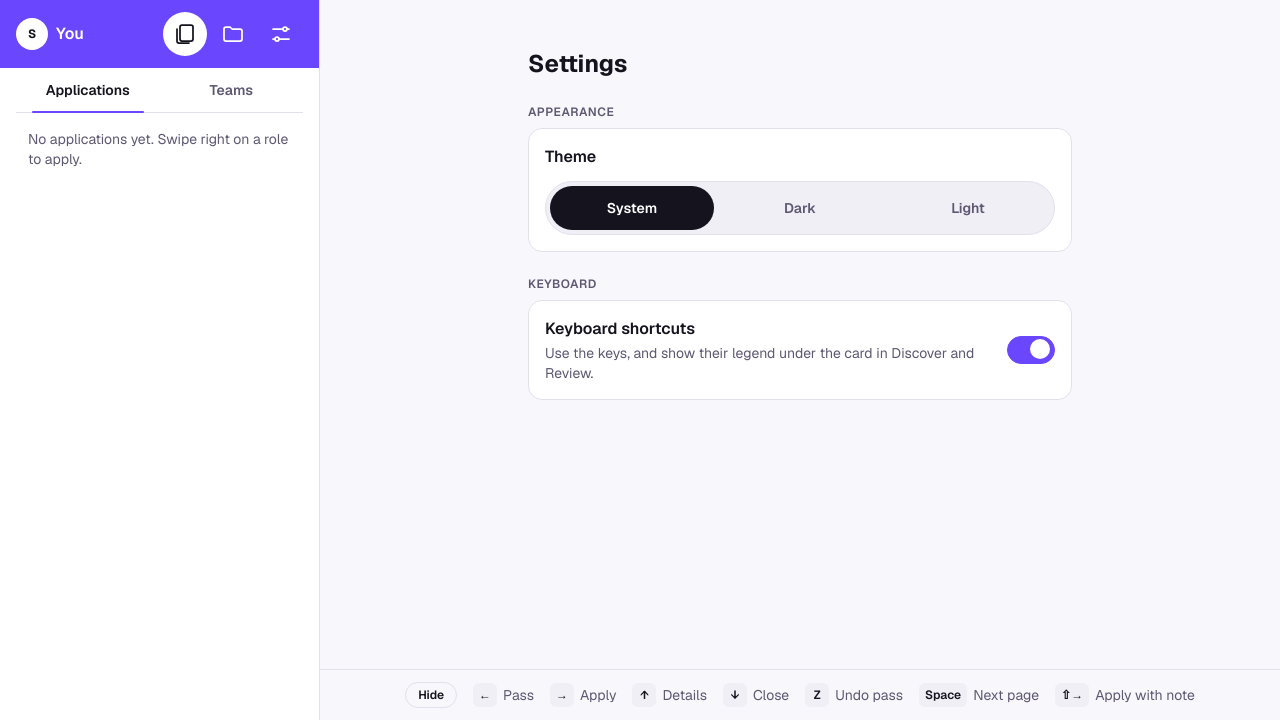
Scenario: Settings → Keyboard shortcuts turns the legend off and on
Click the switch labelled "Keyboard shortcuts": coordinates (1031, 350) [1007,336,1055,364]
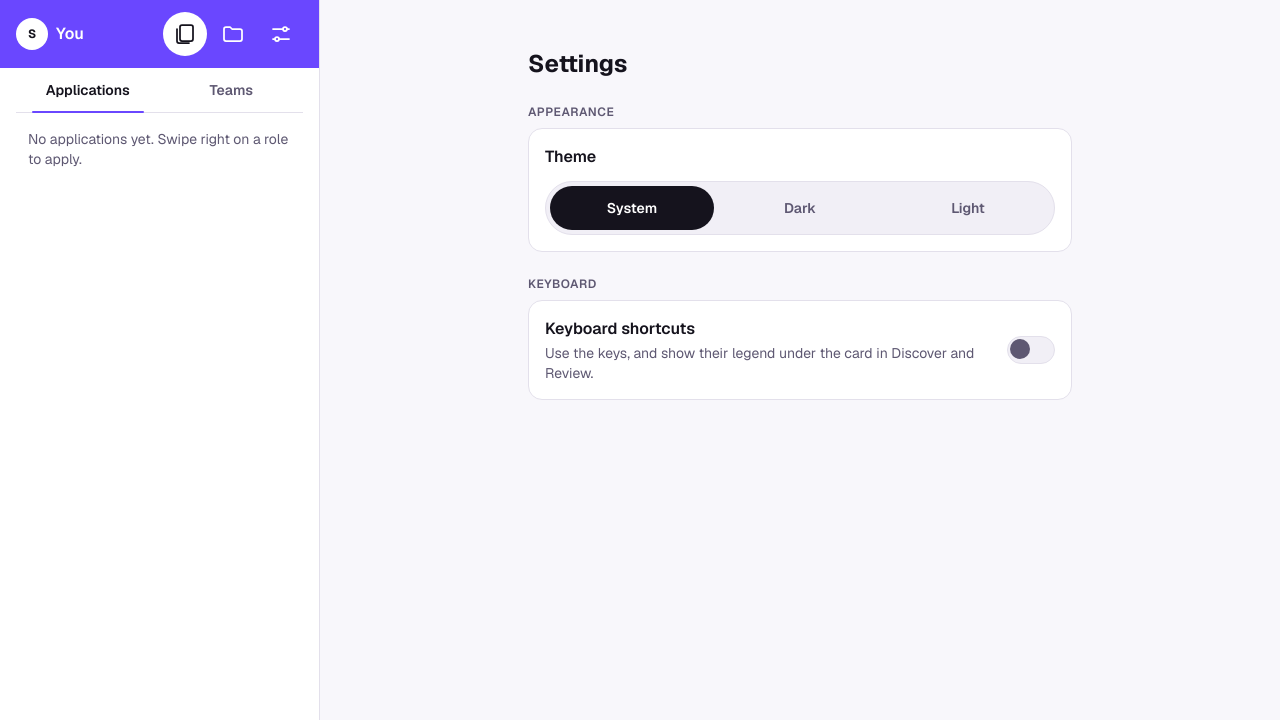
Result: the switch labelled "Keyboard shortcuts" is not checked
Click the switch labelled "Keyboard shortcuts": coordinates (1031, 350) [1007,336,1055,364]
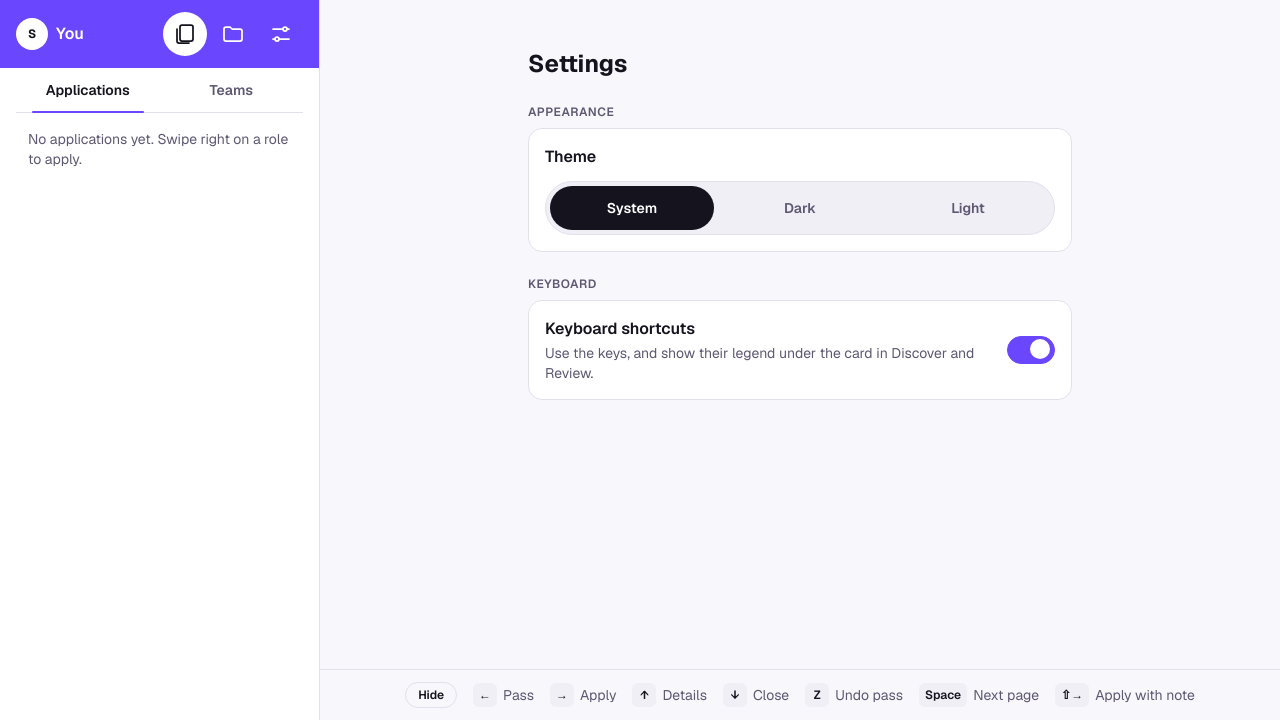
Result: the element named "Keyboard shortcuts" is shown at [320,669,1279,719]
